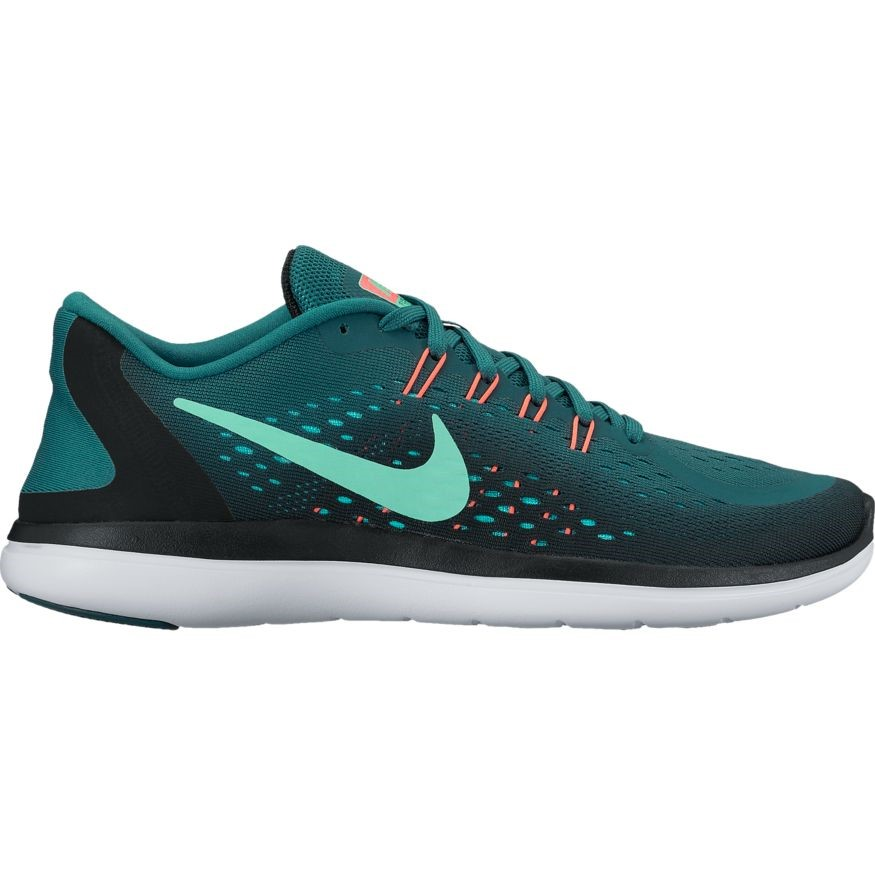nike: (175, 388, 479, 530)
